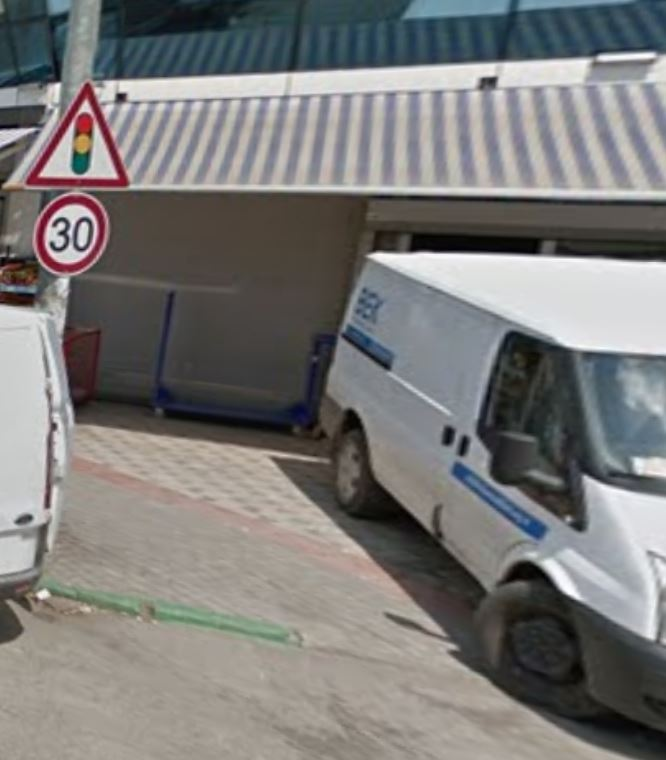50 Km Hiz Siniri: (28, 197, 118, 275)
Trafikisiklari: (32, 83, 132, 187)
